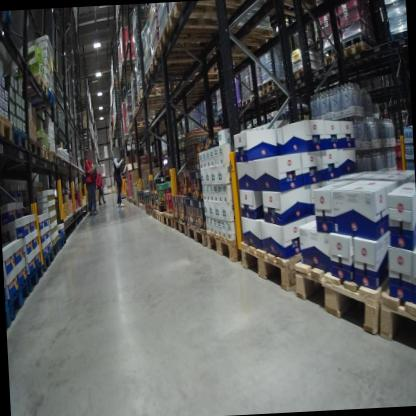pallet: (290, 228, 408, 345), (236, 217, 348, 301), (375, 268, 416, 355), (144, 39, 220, 72), (139, 59, 212, 92), (205, 224, 257, 269), (163, 0, 243, 29), (160, 14, 223, 50), (221, 16, 276, 52), (208, 44, 262, 74), (340, 39, 377, 70), (7, 276, 31, 323), (10, 114, 30, 165), (15, 72, 49, 98), (132, 85, 170, 107), (188, 65, 225, 87), (317, 46, 344, 75), (185, 217, 209, 249), (25, 86, 56, 110), (288, 64, 319, 85), (25, 258, 45, 290), (131, 104, 166, 120), (0, 110, 14, 148), (0, 13, 15, 46), (126, 120, 158, 134), (39, 247, 55, 272), (28, 134, 44, 157), (262, 84, 285, 99), (161, 210, 180, 228), (172, 218, 189, 238), (5, 296, 13, 335), (119, 55, 139, 70), (389, 27, 407, 43), (250, 89, 267, 105), (56, 230, 67, 250), (40, 142, 51, 161), (50, 240, 60, 260), (156, 209, 168, 224), (217, 109, 229, 121), (143, 203, 152, 219), (240, 96, 252, 107), (138, 200, 148, 213), (50, 148, 58, 163), (151, 207, 158, 219), (204, 120, 214, 127), (200, 122, 207, 127)
pallet_truck: (111, 166, 128, 200)
